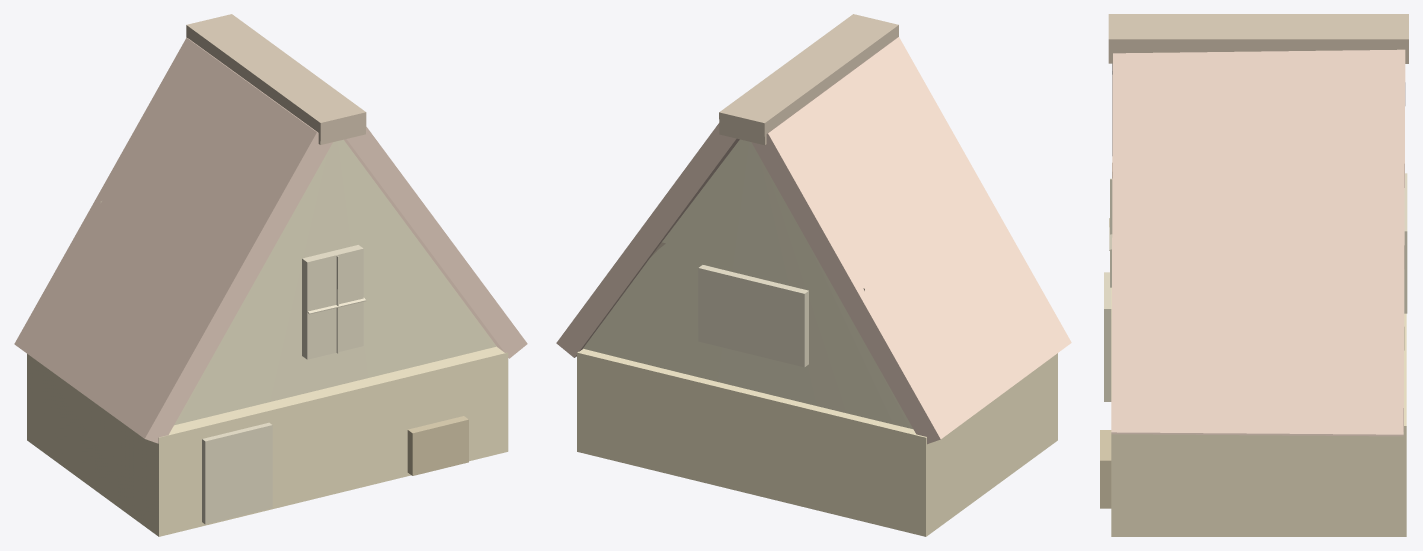
File: house.gltf
3 views of the same model, side by side, from view 1: azimuth 30°, elevation 25°; view 2: azimuth 150°, elevation 25°; view 3: azimuth 270°, elevation 25° (orthographic). The views are drawn at different scales.
Visible parts, largest first — view 1: Cone; view 2: Cone; view 3: Cone.
Boxes of the visible parts, left/top/right/bottom form: Cone: left=14, top=14, right=527, bottom=536; Cone: left=556, top=14, right=1071, bottom=536; Cone: left=1100, top=14, right=1408, bottom=536.
Bounding box in the file's own units: 2.06 × 1.92 × 1.28.
